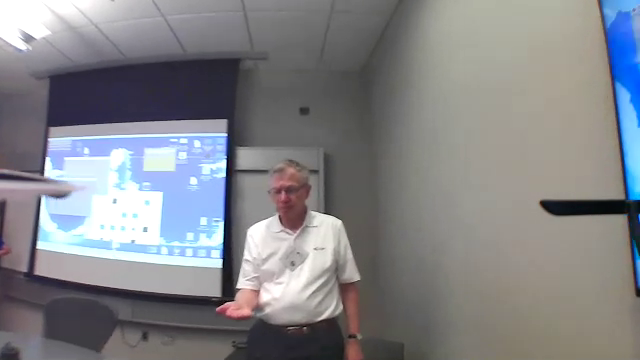land: (208, 296, 260, 322)
